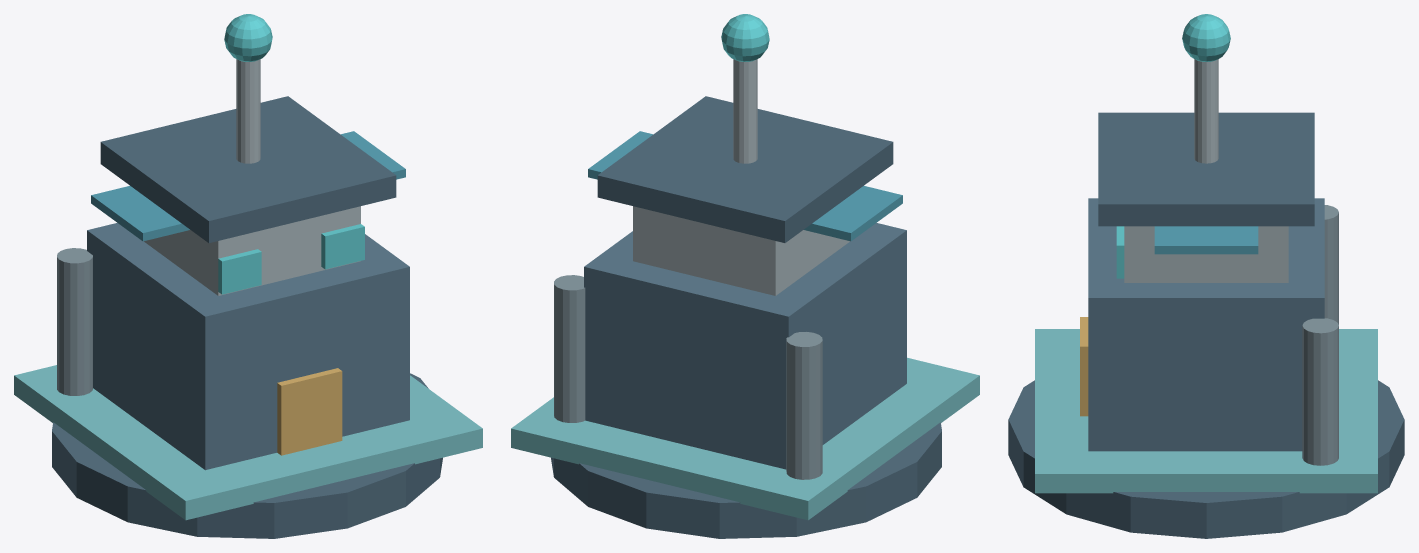
3 renders of one model, left to right at view 1: azimuth 30°, elevation 25°; view 2: azimuth 150°, elevation 25°; view 3: azimuth 270°, elevation 25°, orthographic.
Size of the model in its own units: 2.6 by 3.18 by 2.6.
